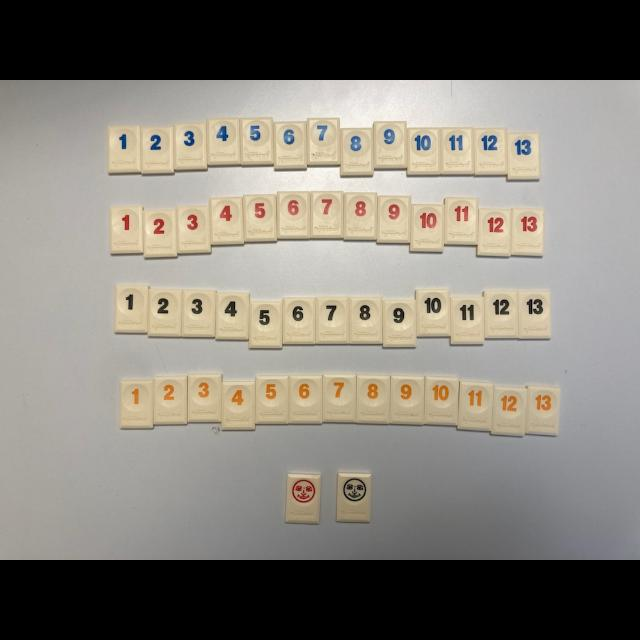black_1: (114, 287, 149, 332)
black_10: (418, 289, 449, 336)
black_11: (450, 298, 484, 344)
black_12: (484, 291, 518, 339)
black_13: (518, 291, 550, 339), (485, 291, 515, 338)
black_2: (148, 291, 182, 336)
black_3: (181, 291, 216, 338)
black_4: (215, 293, 249, 340)
black_5: (249, 302, 282, 349)
black_6: (284, 298, 315, 344)
black_7: (316, 298, 349, 344)
black_8: (349, 298, 382, 344)
black_9: (382, 300, 416, 348)
blue_1: (109, 126, 140, 173)
blue_10: (406, 129, 440, 175)
blue_11: (441, 128, 472, 175)
blue_12: (474, 129, 506, 175)
blue_13: (508, 132, 540, 180)
blue_2: (141, 128, 173, 174)
blue_3: (175, 124, 206, 170)
blue_4: (208, 119, 239, 165)
blue_5: (241, 118, 272, 165)
blue_6: (274, 122, 306, 170)
blue_7: (308, 118, 339, 165)
blue_8: (340, 129, 374, 176)
blue_9: (374, 121, 406, 169)
joker: (285, 474, 321, 524), (336, 474, 371, 522)
orange_1: (120, 380, 152, 429)
orange_10: (424, 376, 459, 425)
orange_11: (458, 381, 494, 431)
orange_12: (492, 386, 528, 435)
orange_13: (525, 385, 560, 436)
orange_2: (154, 376, 188, 424)
orange_3: (188, 374, 221, 422)
orange_4: (221, 382, 255, 430)
orange_5: (255, 377, 289, 424)
orange_6: (289, 377, 322, 424)
orange_7: (322, 374, 356, 422)
orange_8: (356, 375, 390, 424)
orange_9: (390, 377, 425, 425)
red_1: (110, 206, 142, 254)
red_10: (410, 206, 444, 252)
red_11: (445, 198, 478, 245)
red_12: (478, 209, 511, 256)
red_13: (511, 209, 545, 256)
red_2: (144, 209, 178, 258)
red_3: (178, 207, 211, 253)
red_4: (211, 198, 243, 244)
red_5: (244, 195, 276, 241)
red_6: (276, 191, 310, 239)
red_7: (310, 191, 344, 239)
red_8: (344, 193, 376, 240)
red_9: (376, 197, 410, 244)
